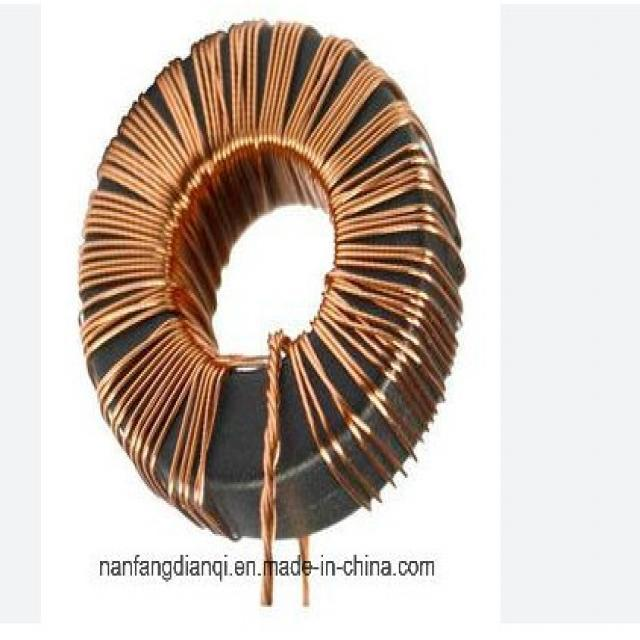Inductor: (80, 21, 464, 606)
